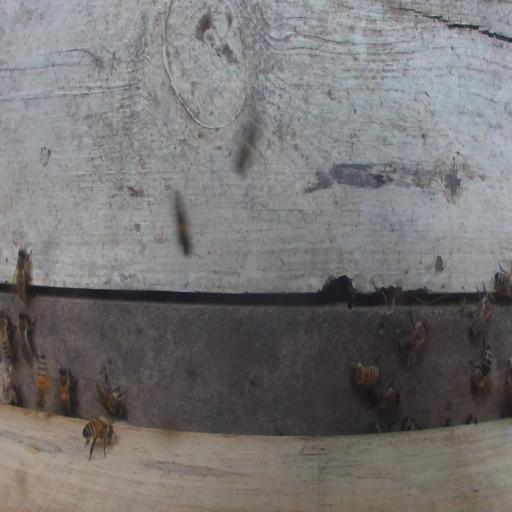bee: (76, 405, 118, 462), (462, 273, 496, 340), (399, 306, 430, 372), (95, 362, 127, 418), (171, 186, 194, 255), (54, 357, 80, 418), (367, 369, 401, 414), (11, 240, 34, 304), (468, 332, 493, 390), (350, 344, 381, 389), (17, 311, 38, 365), (35, 352, 52, 410), (492, 255, 512, 302), (0, 309, 17, 362)
